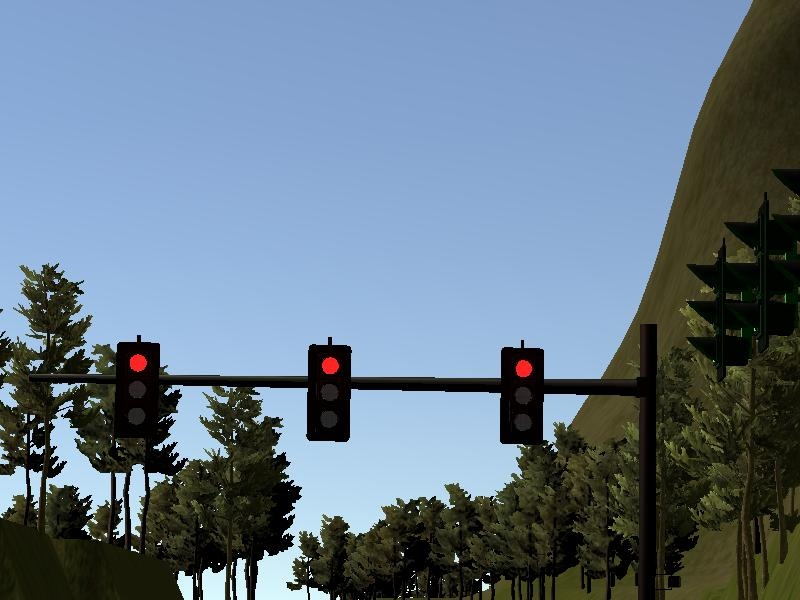red: (305, 342, 356, 446), (496, 341, 547, 444), (114, 337, 162, 442)
